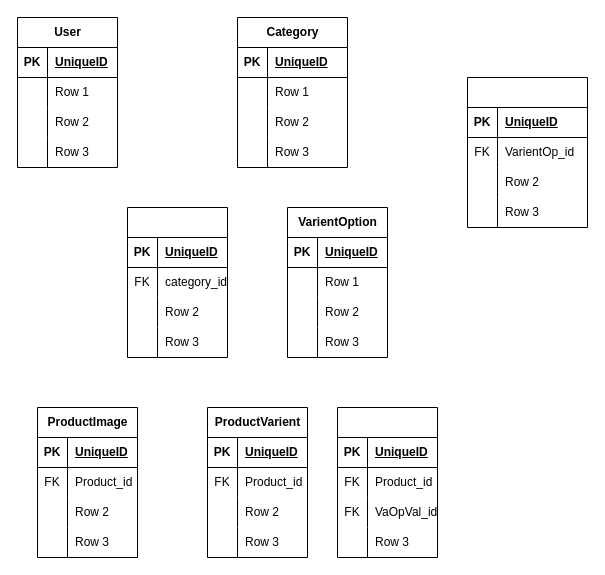
Some shapes in this 605 by 575 pixel diagram are drawn without their labels. The shapes that lost their labels are listed below. From the top down, each one's box as (x1, y1, x2, y2) in pixels, then its label:
(466, 76, 588, 228): VariOptionValue
(126, 206, 228, 358): Product
(336, 406, 438, 558): ProVariOpValue
